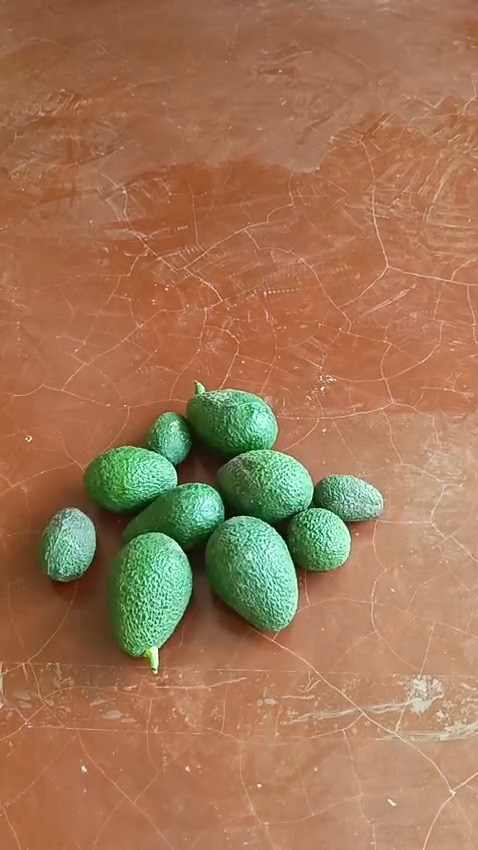Primera: (107, 530, 194, 659), (204, 514, 299, 631), (216, 447, 314, 522), (186, 388, 279, 457)
Segunda: (122, 482, 225, 550), (83, 445, 177, 512)
Tercera: (38, 506, 97, 582), (284, 506, 352, 571), (311, 475, 384, 523), (145, 410, 194, 466)
